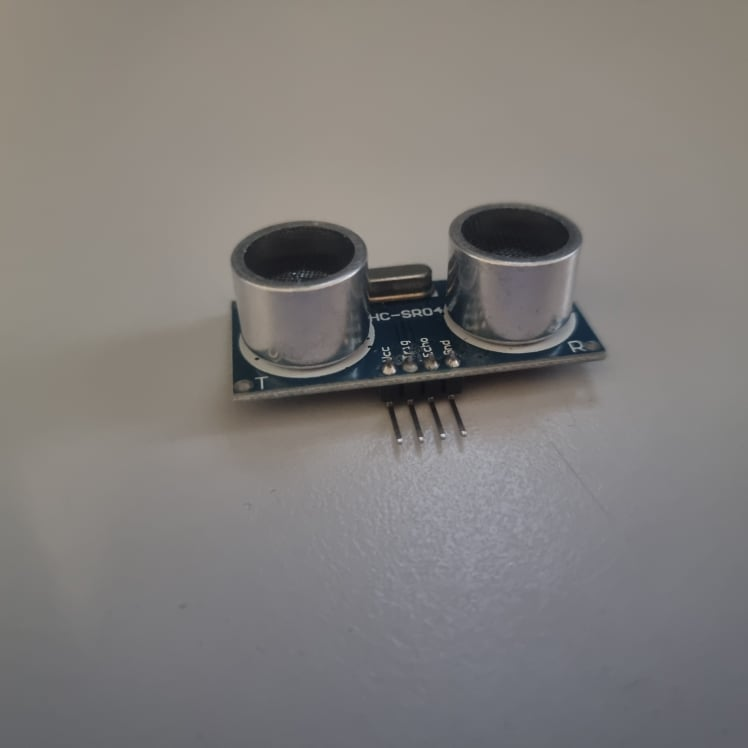SENSOR: (230, 205, 606, 441)
